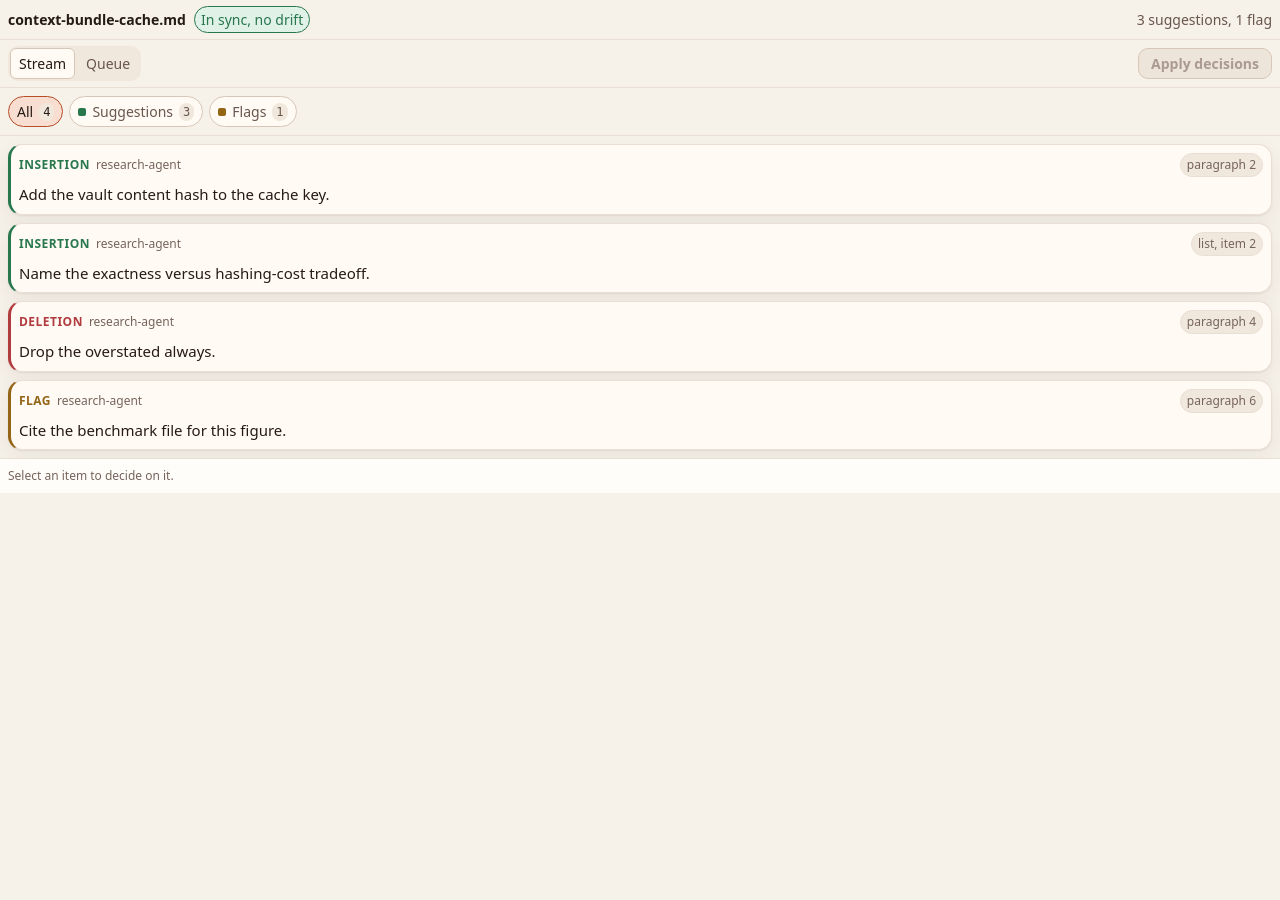
ReviewPanel › keeps Queue navigation out of an amendment and clears the draft on target change
Expected: the text "Add the vault content hash to the cache key." is shown, 19,184 -> 330,204
Click the button "Queue": (108, 64) 77,48 -> 139,79
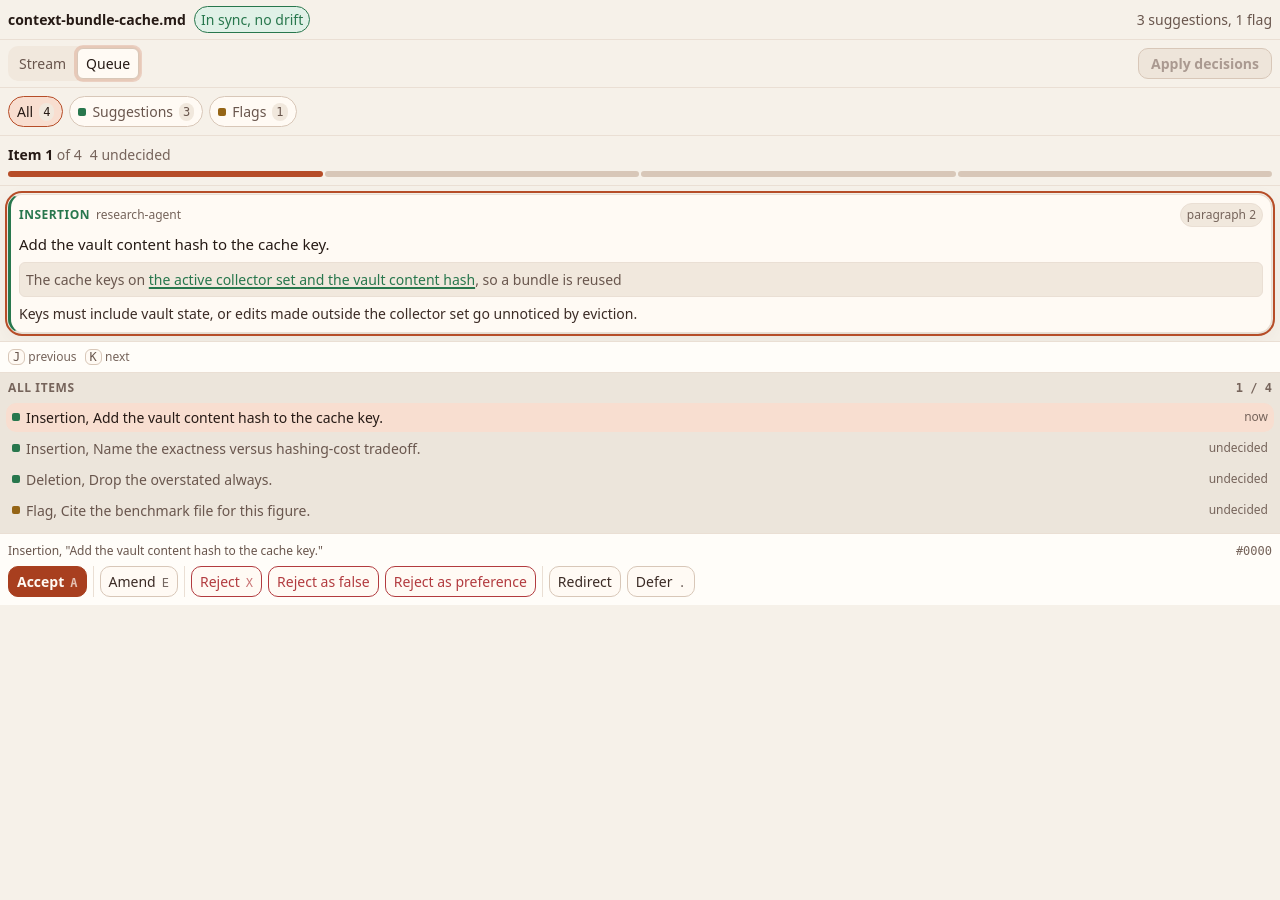
Type keys "e"
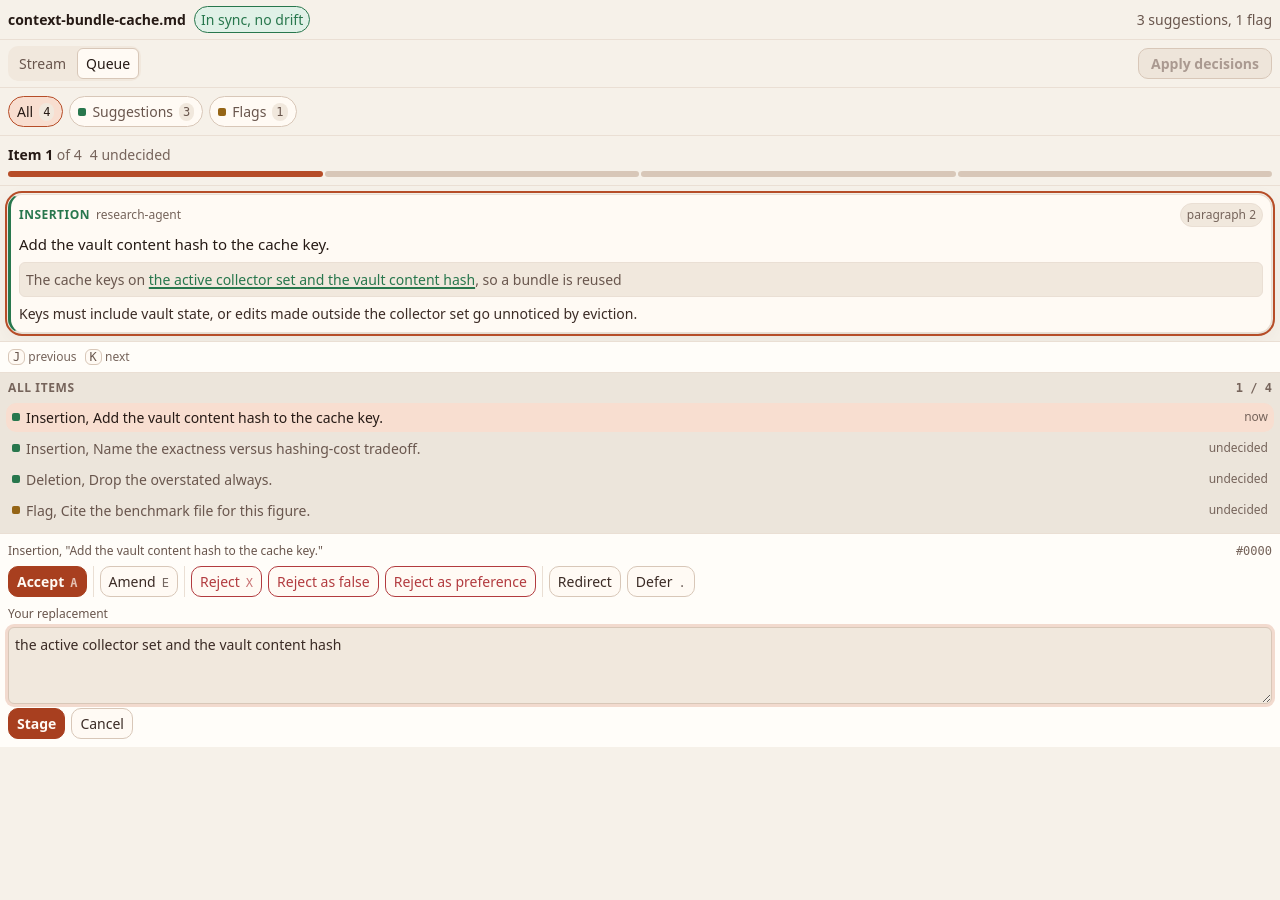
Type keys "k"
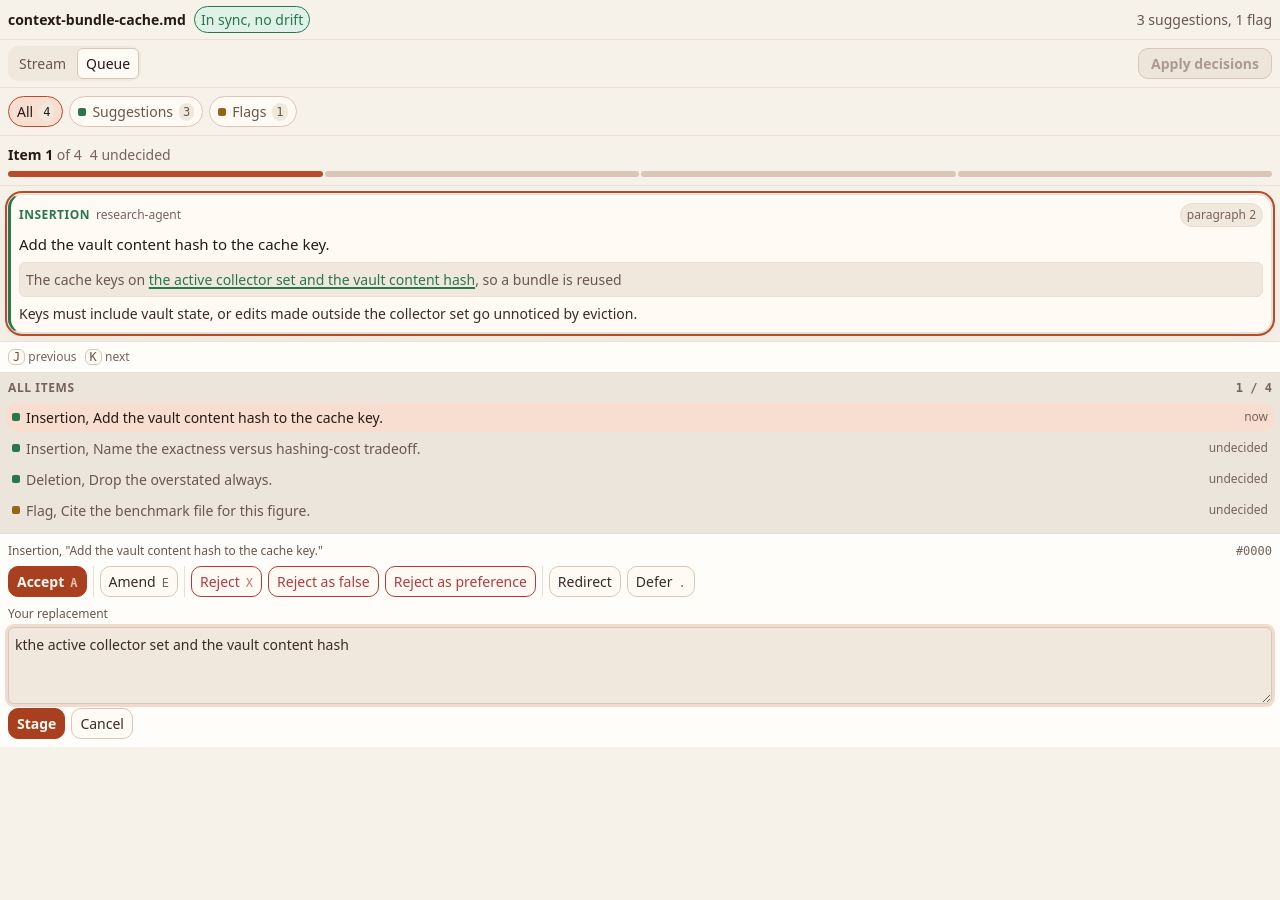
Result: the text "Item 1" is shown at 8,145 -> 53,164
Press k
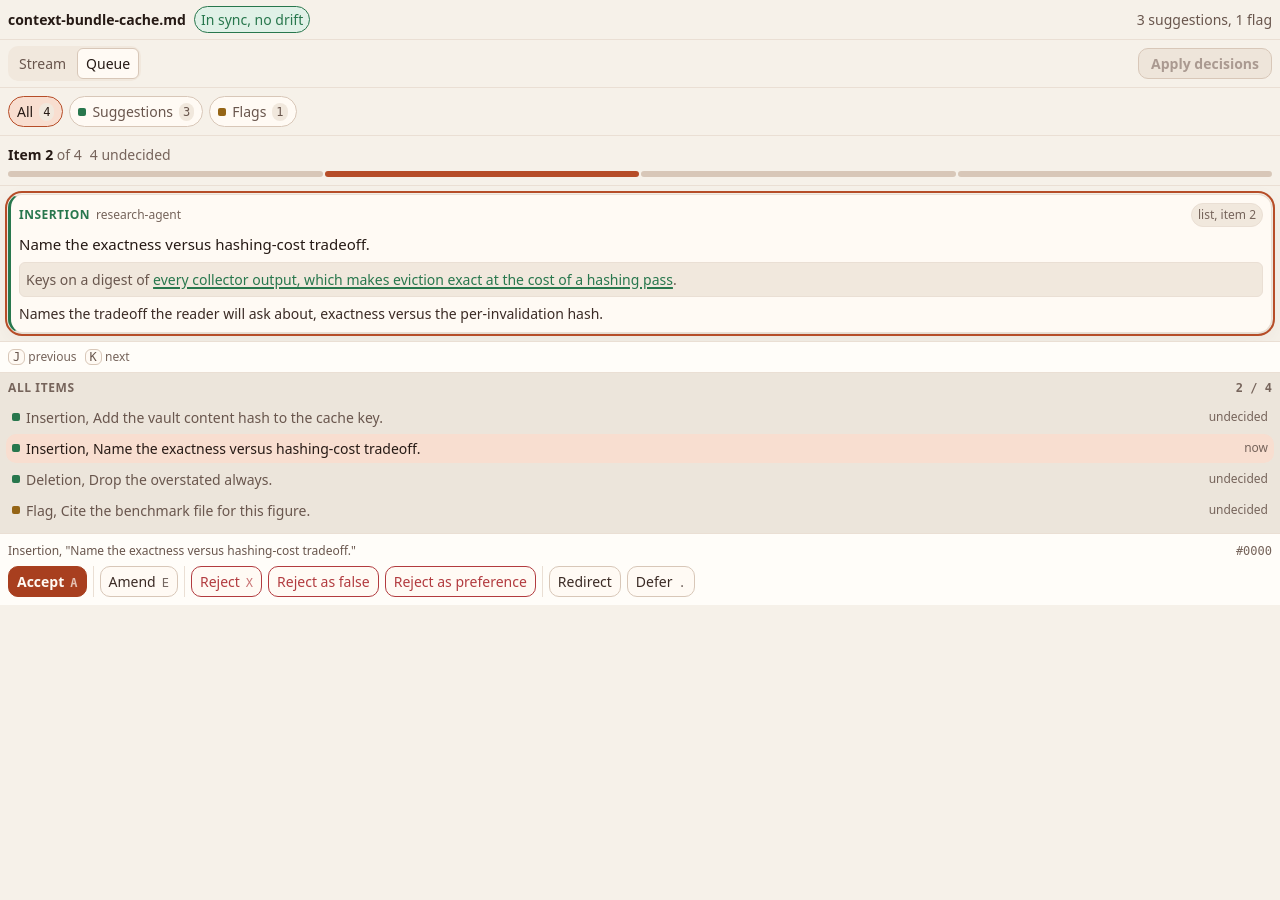
Result: the text "Item 2" is shown at 8,145 -> 53,164
Result: the label labelled "Your replacement" is gone
